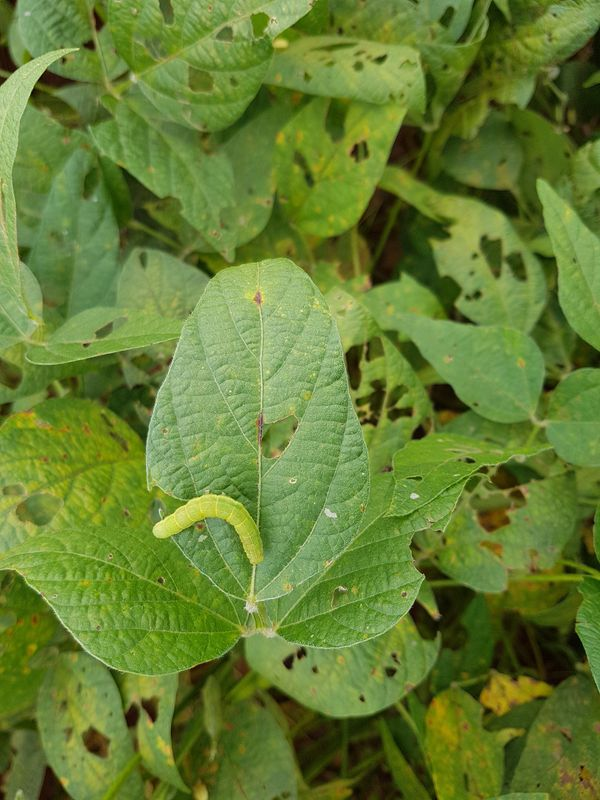Anticarsia_gemmatalis: (139, 478, 280, 585)
